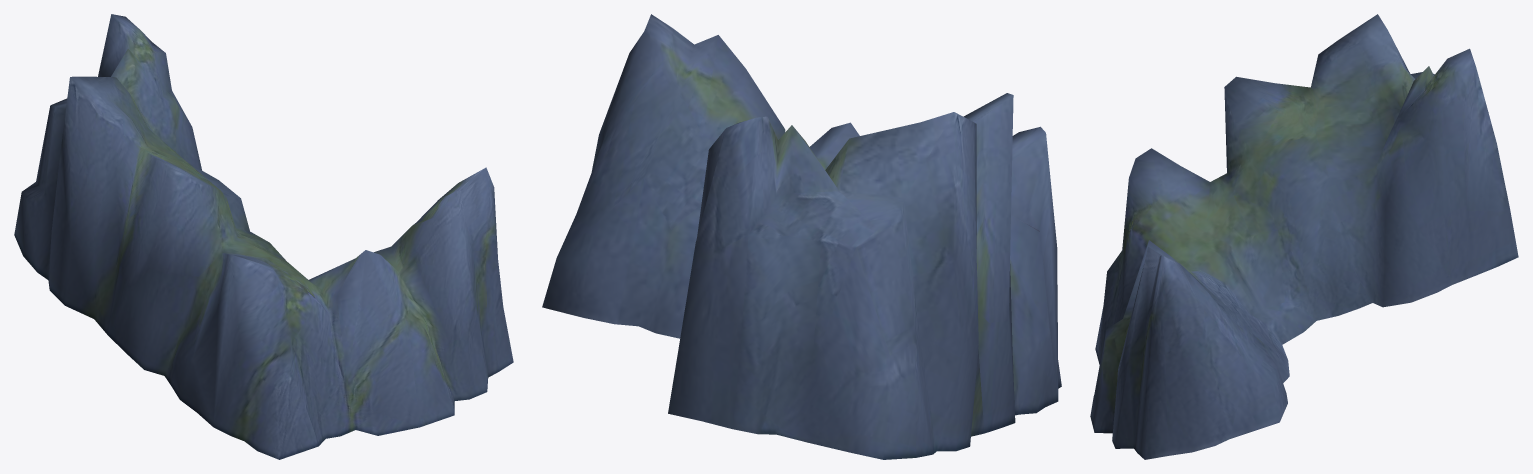
Rendered from rock_wall_b.glb.
3 views of the same model, side by side, from view 1: azimuth 30°, elevation 25°; view 2: azimuth 150°, elevation 25°; view 3: azimuth 270°, elevation 25° (orthographic). The views are drawn at different scales.
Visible parts, largest first — view 1: tripo_node_888ff0fd-0e16-427b-ad7d-c04d2651a62c; view 2: tripo_node_888ff0fd-0e16-427b-ad7d-c04d2651a62c; view 3: tripo_node_888ff0fd-0e16-427b-ad7d-c04d2651a62c.
Boxes of the visible parts, x1,y1,x2,y2 form: tripo_node_888ff0fd-0e16-427b-ad7d-c04d2651a62c: [14, 14, 513, 459]; tripo_node_888ff0fd-0e16-427b-ad7d-c04d2651a62c: [542, 14, 1061, 459]; tripo_node_888ff0fd-0e16-427b-ad7d-c04d2651a62c: [1090, 14, 1518, 459].
Size of the model in its own units: 0.9512 by 0.7949 by 0.998.
1 material, 1 textured.
